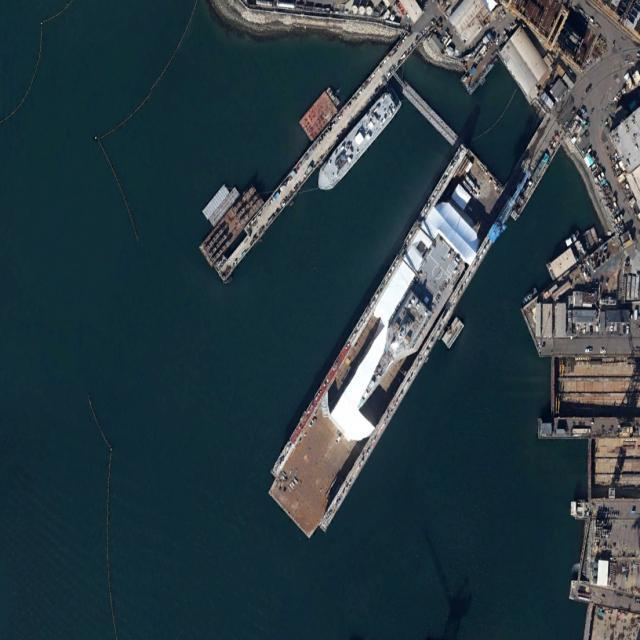Other Ship: (344, 233, 466, 426), (312, 83, 403, 199)
